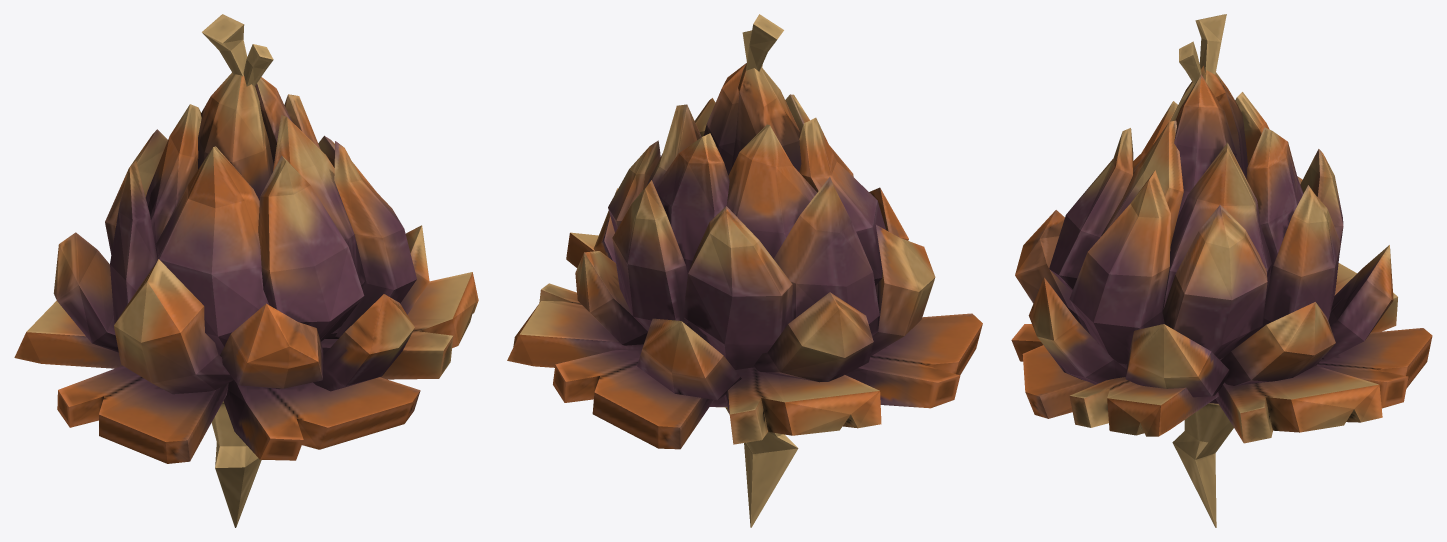
The model's file is Desert Plant 04.gltf.
3 renders of one model, left to right at view 1: azimuth 30°, elevation 25°; view 2: azimuth 150°, elevation 25°; view 3: azimuth 270°, elevation 25°, orthographic.
Size of the model in its own units: 0.6376 by 0.7741 by 0.5791.
Materials: 1 (1 with a texture image).
